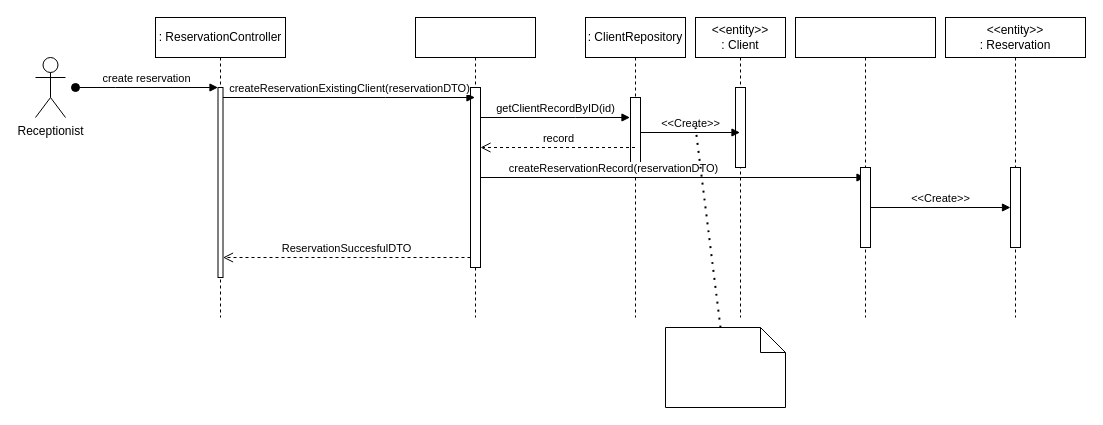
This 1103x425 diagram has some shape labels left out. Each missing label, with the box of its shape:
: ReservationRepository: (794, 16, 936, 318)
: ReservationService: (414, 16, 536, 318)
Create the Client entity if it is not present in the table: (664, 326, 786, 408)
